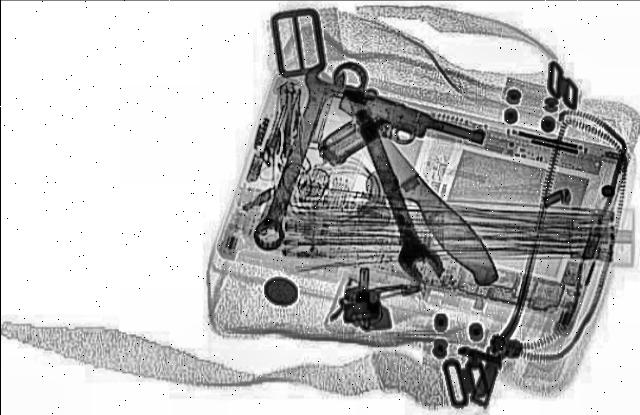Gun: (290, 88, 494, 196)
Knife: (321, 95, 513, 291)
Wrench: (322, 60, 451, 284), (247, 62, 351, 254)
